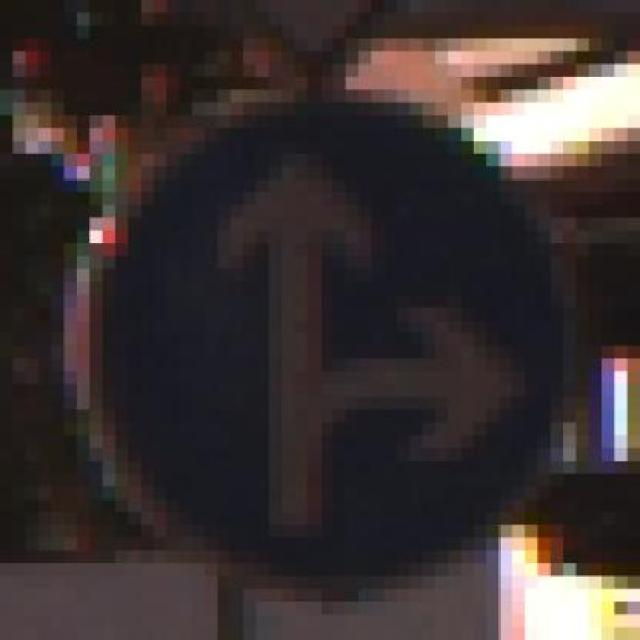Go Straight or Turn Right: (51, 90, 602, 588)
